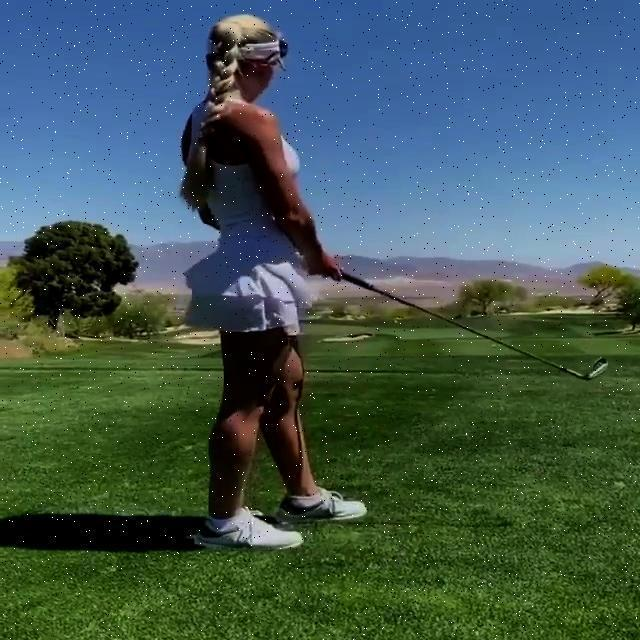ClubHead: (589, 357, 610, 377)
